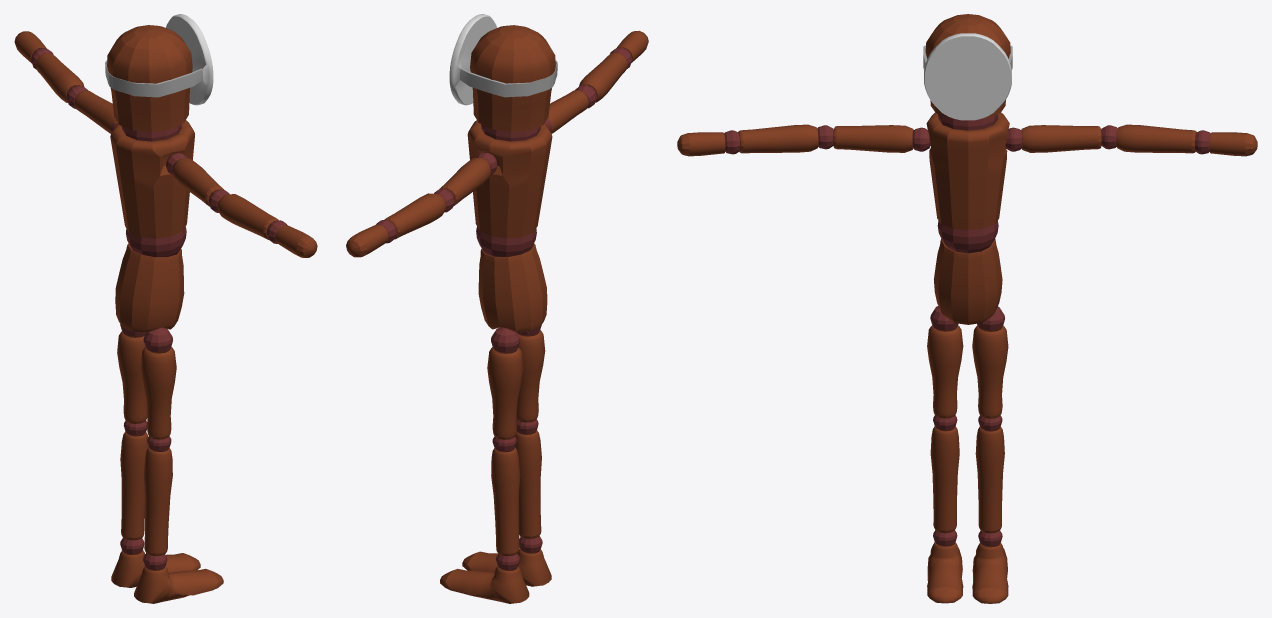
File: AE_Mann_With_Mask04.fbx
3 renders of one model, left to right at view 1: azimuth 30°, elevation 25°; view 2: azimuth 150°, elevation 25°; view 3: azimuth 270°, elevation 25°, orthographic.
Visible parts, largest first — view 1: Mann_Fullset; view 2: Mann_Fullset; view 3: Mann_Fullset.
Part boxes in pixels (x1,y1,x2,y2): Mann_Fullset: (14,14,317,603); Mann_Fullset: (346,14,648,603); Mann_Fullset: (677,14,1257,603).
Size of the model in its own units: 93.84 by 507 by 476.
